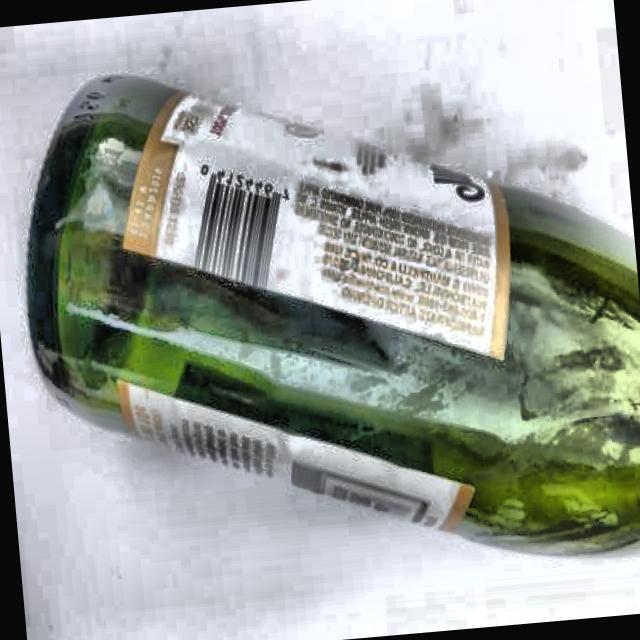glass: (4, 32, 640, 608)
